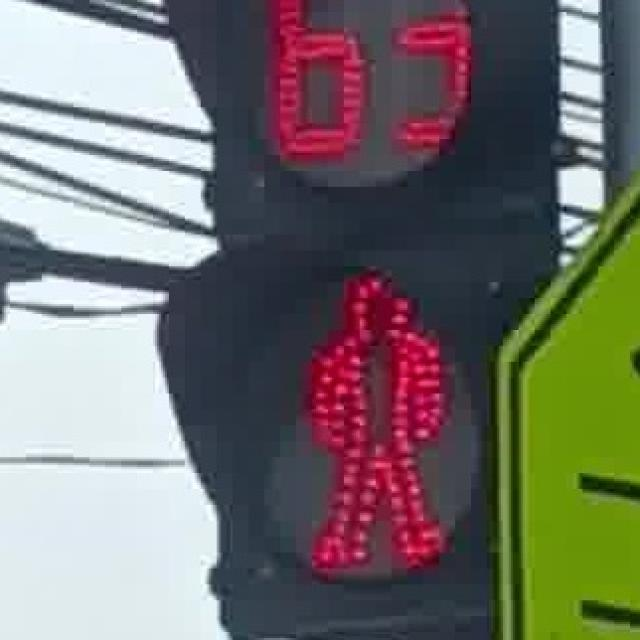red_light: (282, 260, 455, 582)
